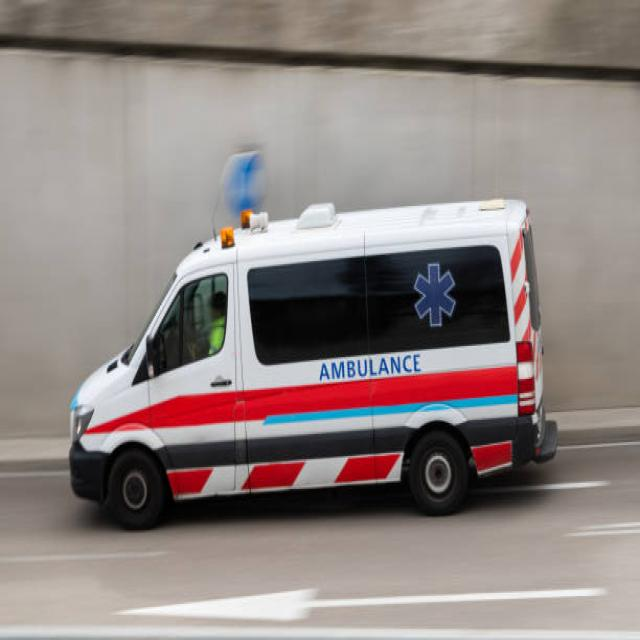emergency: (69, 199, 559, 527)
